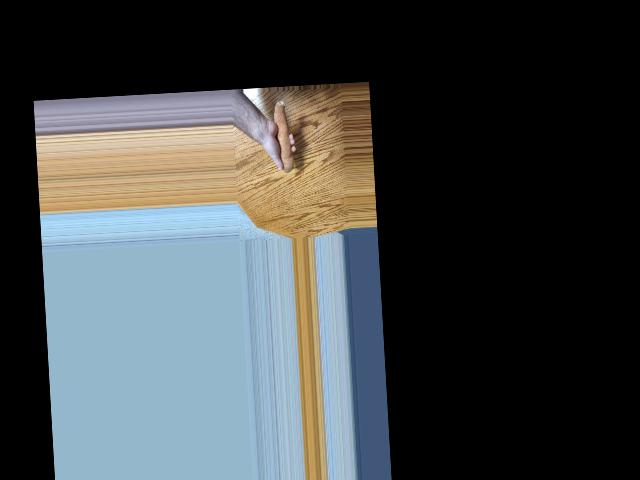sweet_potato: (267, 98, 295, 174)
